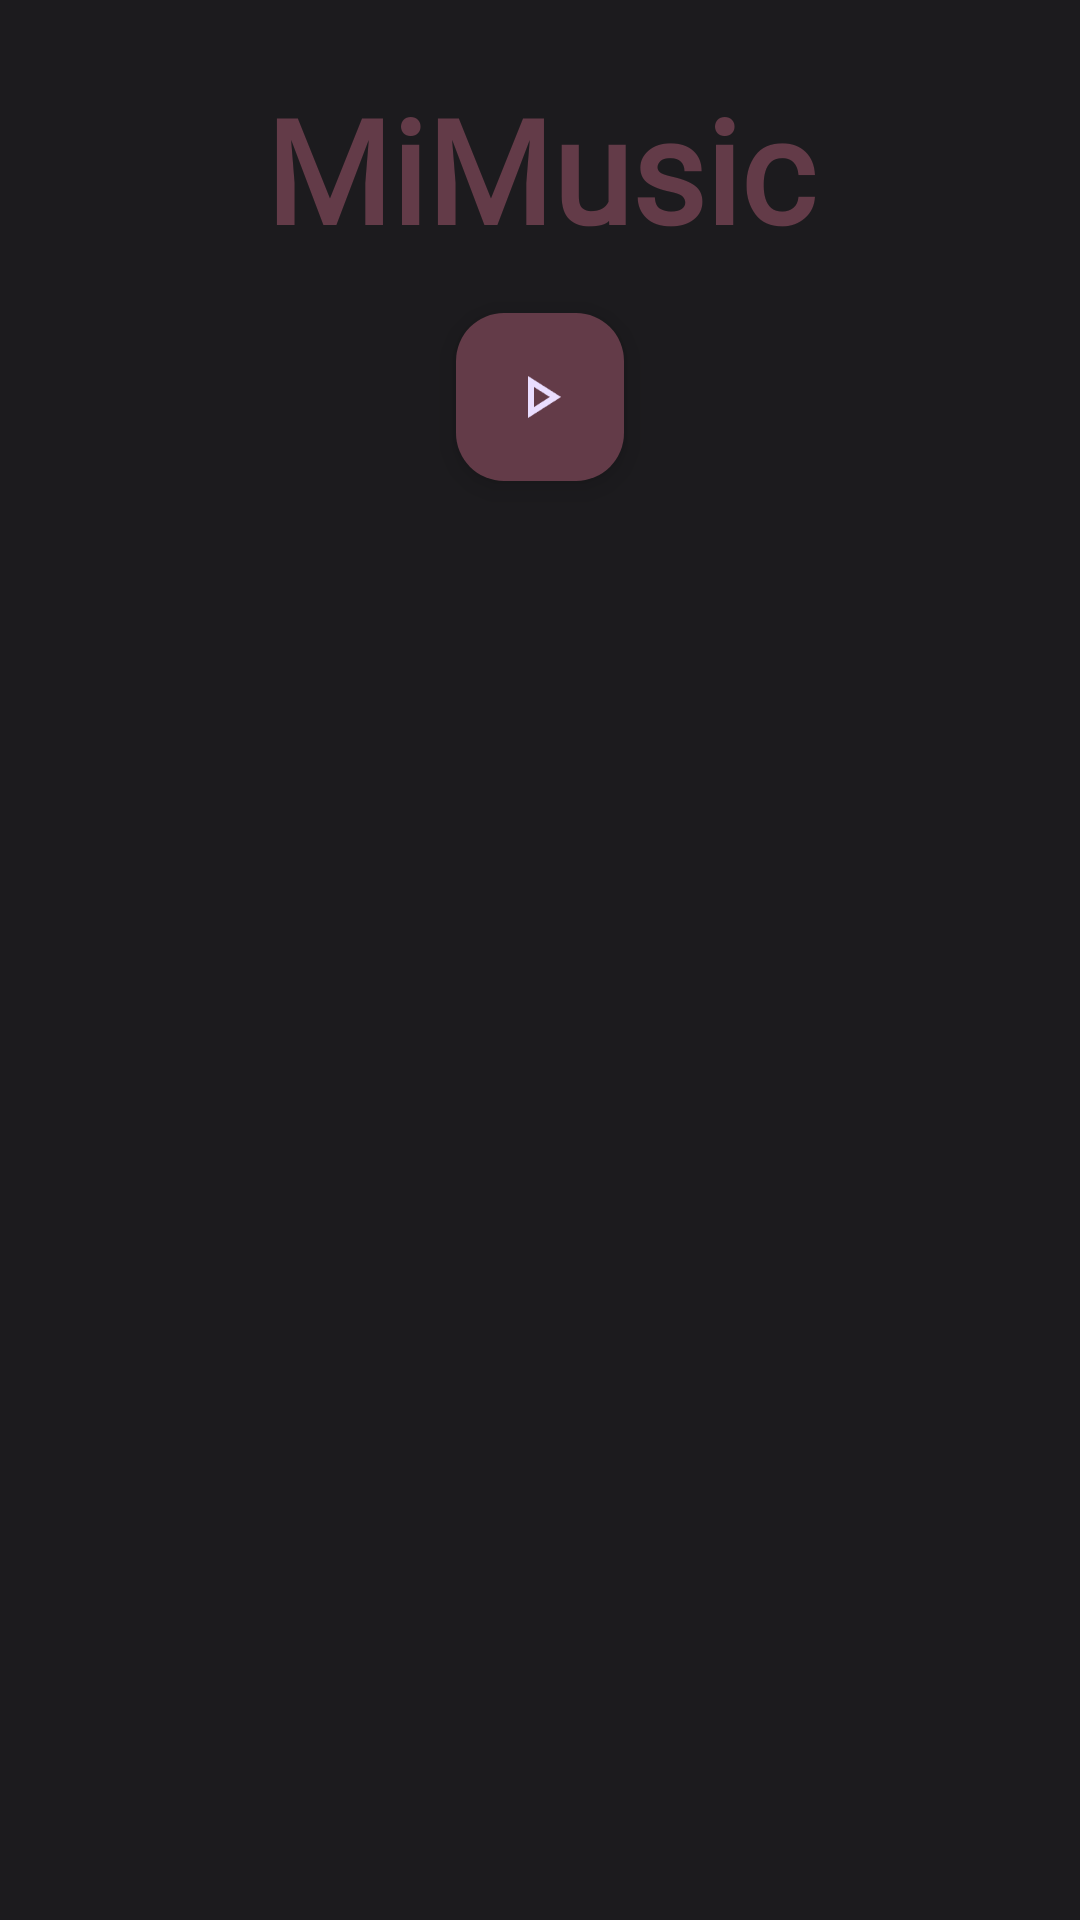

Named icons in this screenshot (1080*1920) and their centers, (x=x, y=y):
play: (x=540, y=397)
